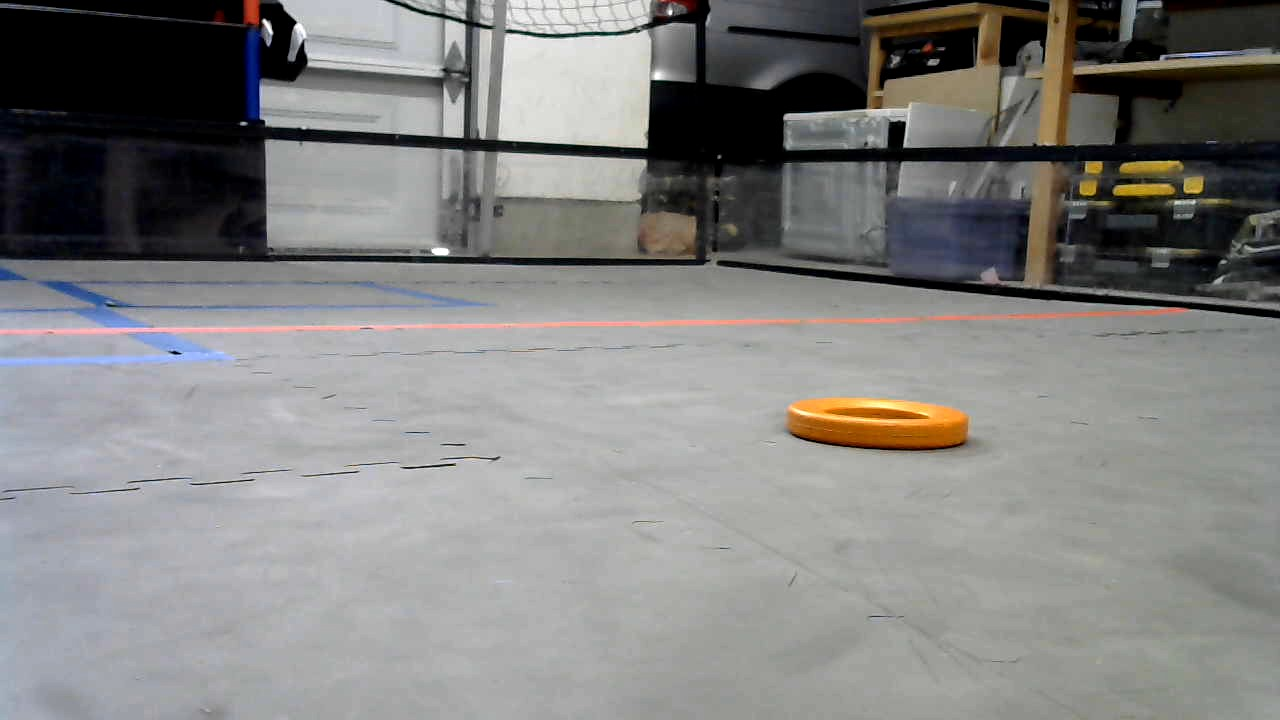OneStack: (786, 397, 969, 448)
